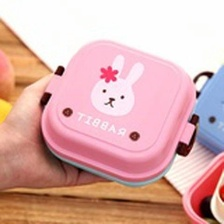plastic_box: (31, 31, 205, 191), (181, 58, 223, 163), (177, 145, 224, 224)
